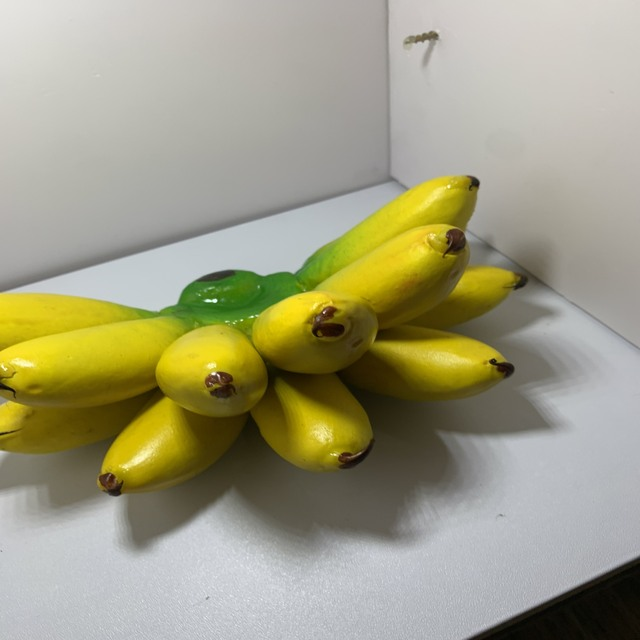Chuoi: (0, 169, 534, 499)
